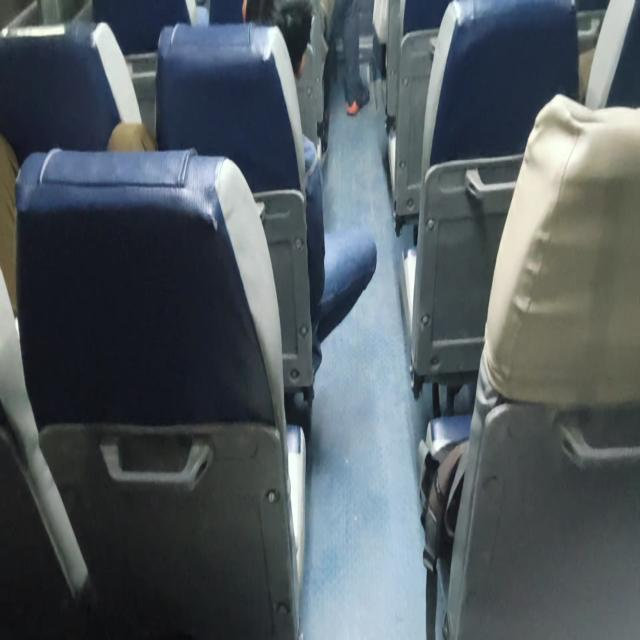person: (258, 3, 311, 73)
